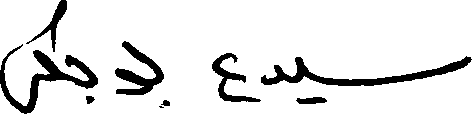ب: (65, 46, 96, 104), (145, 52, 172, 106)
د: (260, 62, 284, 87)
ر: (0, 32, 38, 112)
س: (436, 53, 470, 74)
ك: (37, 0, 61, 98)
و: (114, 64, 142, 95)
ي: (209, 51, 246, 102), (292, 54, 324, 105)
